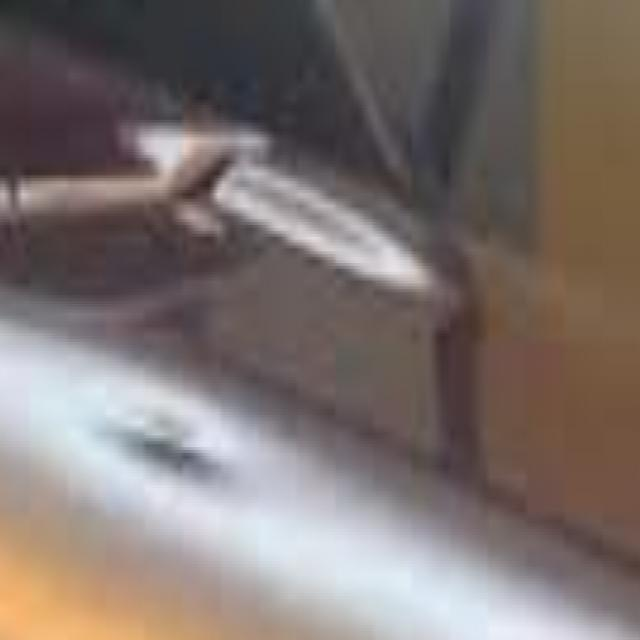dents: (92, 387, 245, 498)
